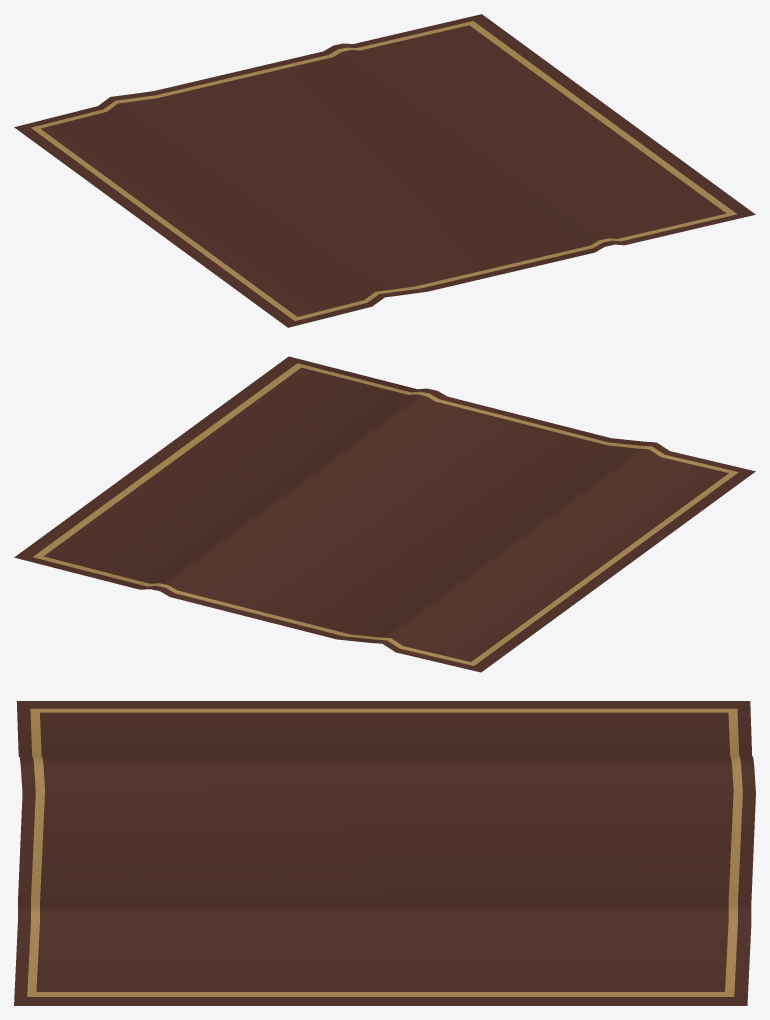
File: Carpet_2.glb
The picture shows the model from 3 angles, top to bottom: view 1: azimuth 30°, elevation 25°; view 2: azimuth 150°, elevation 25°; view 3: azimuth 270°, elevation 25°; orthographic projection. The views are drawn at different scales.
Visible parts, largest first — view 1: Carpet_2; view 2: Carpet_2; view 3: Carpet_2.
Part boxes in pixels (x1,y1,x2,y2): Carpet_2: (14, 14, 755, 327); Carpet_2: (14, 356, 755, 672); Carpet_2: (14, 701, 755, 1005).
Size of the model in its own units: 1.51 by 0.0179 by 1.56.
Materials: 2 (2 with a texture image).
